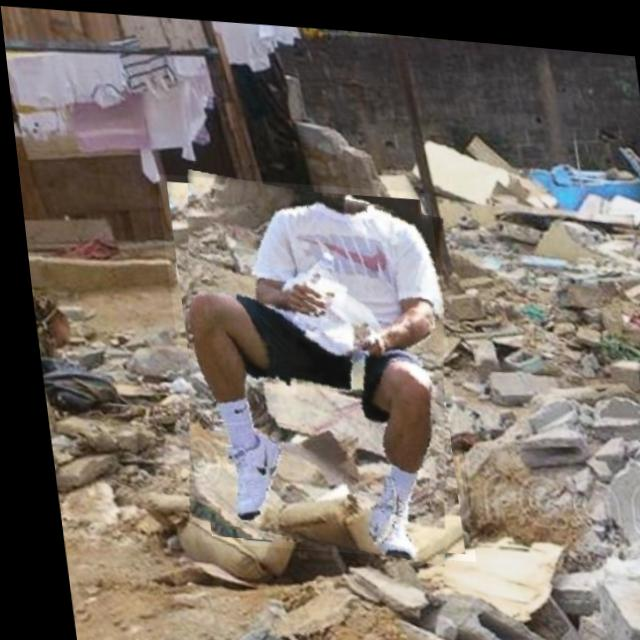Person in Rubble: (151, 166, 464, 558)
